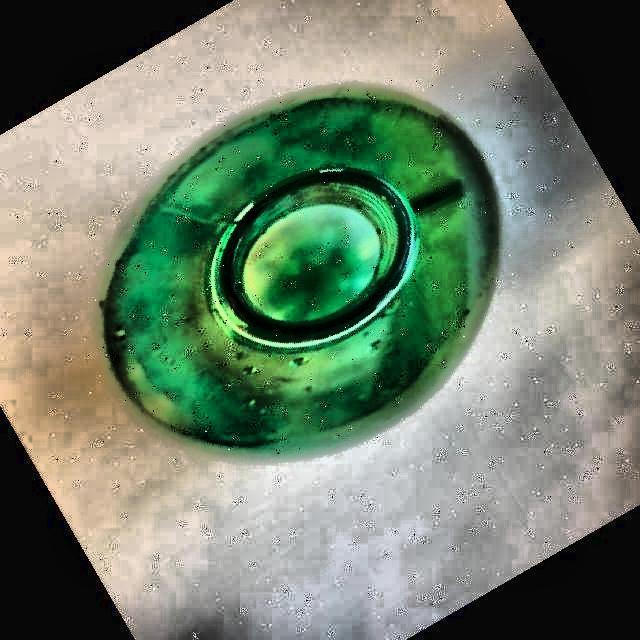plastic: (104, 88, 499, 454)
